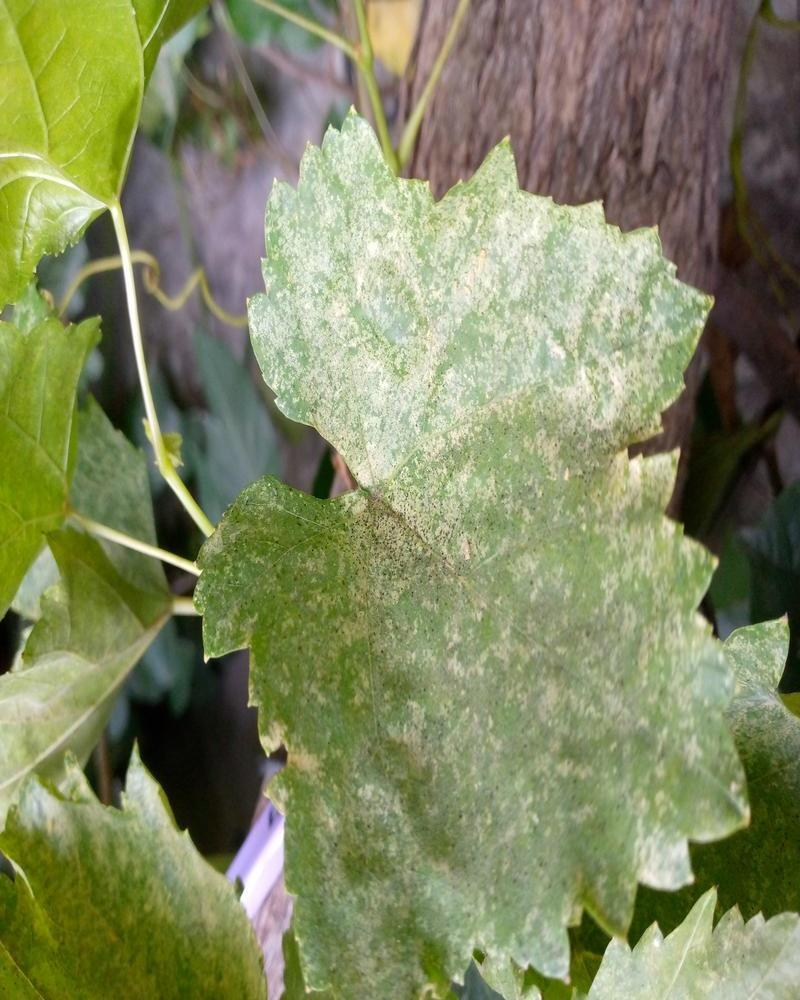Powdery-Mildew: (272, 301, 335, 364), (434, 332, 497, 395), (584, 354, 647, 417), (640, 824, 703, 887), (359, 368, 422, 431), (434, 252, 497, 315), (575, 220, 638, 283)
